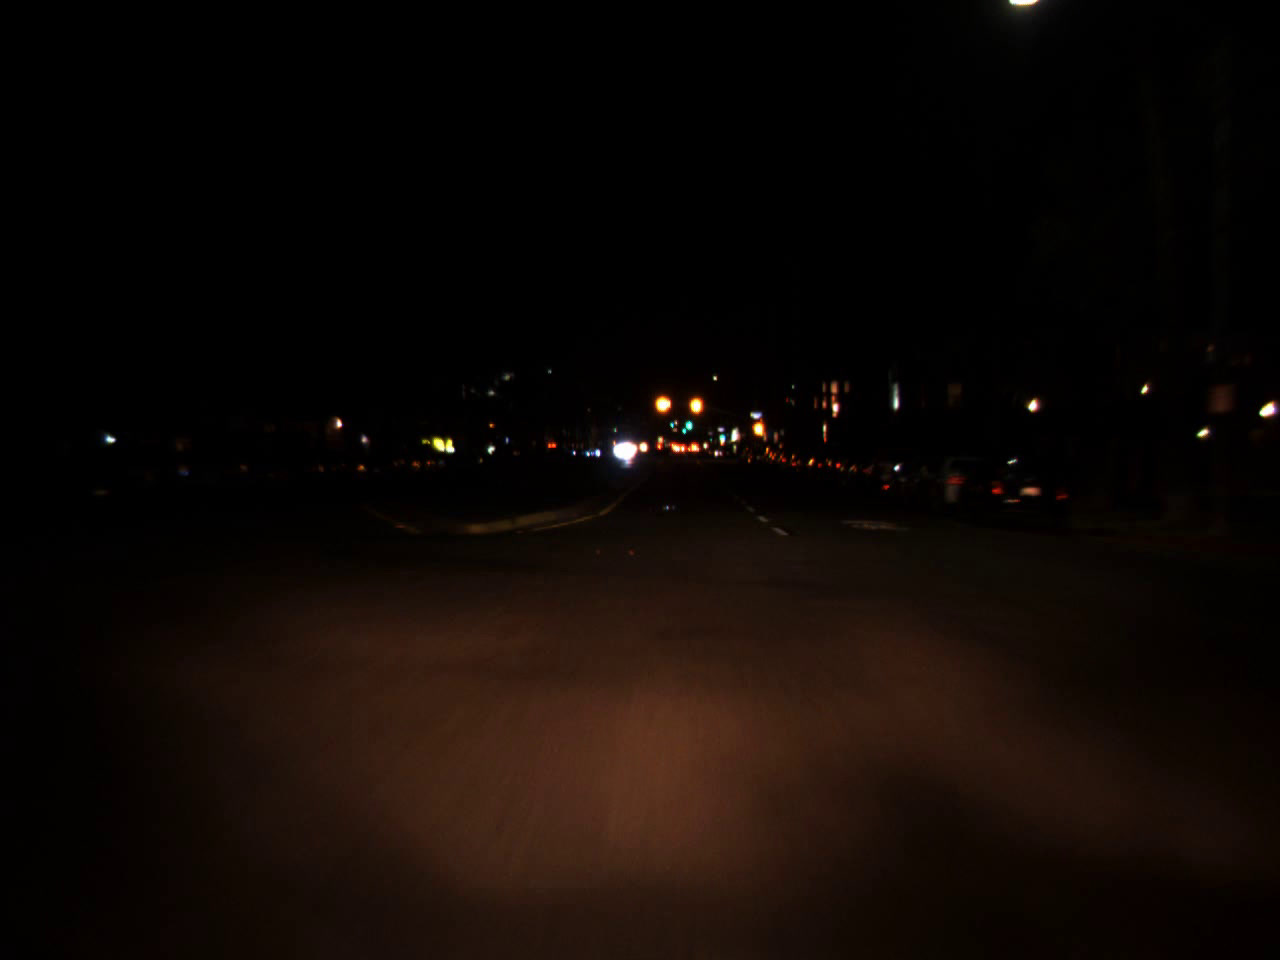go: (683, 411, 693, 432), (668, 414, 675, 429), (680, 423, 687, 435), (718, 428, 725, 440)
warning: (652, 385, 674, 422), (749, 412, 767, 444), (688, 386, 703, 423)
